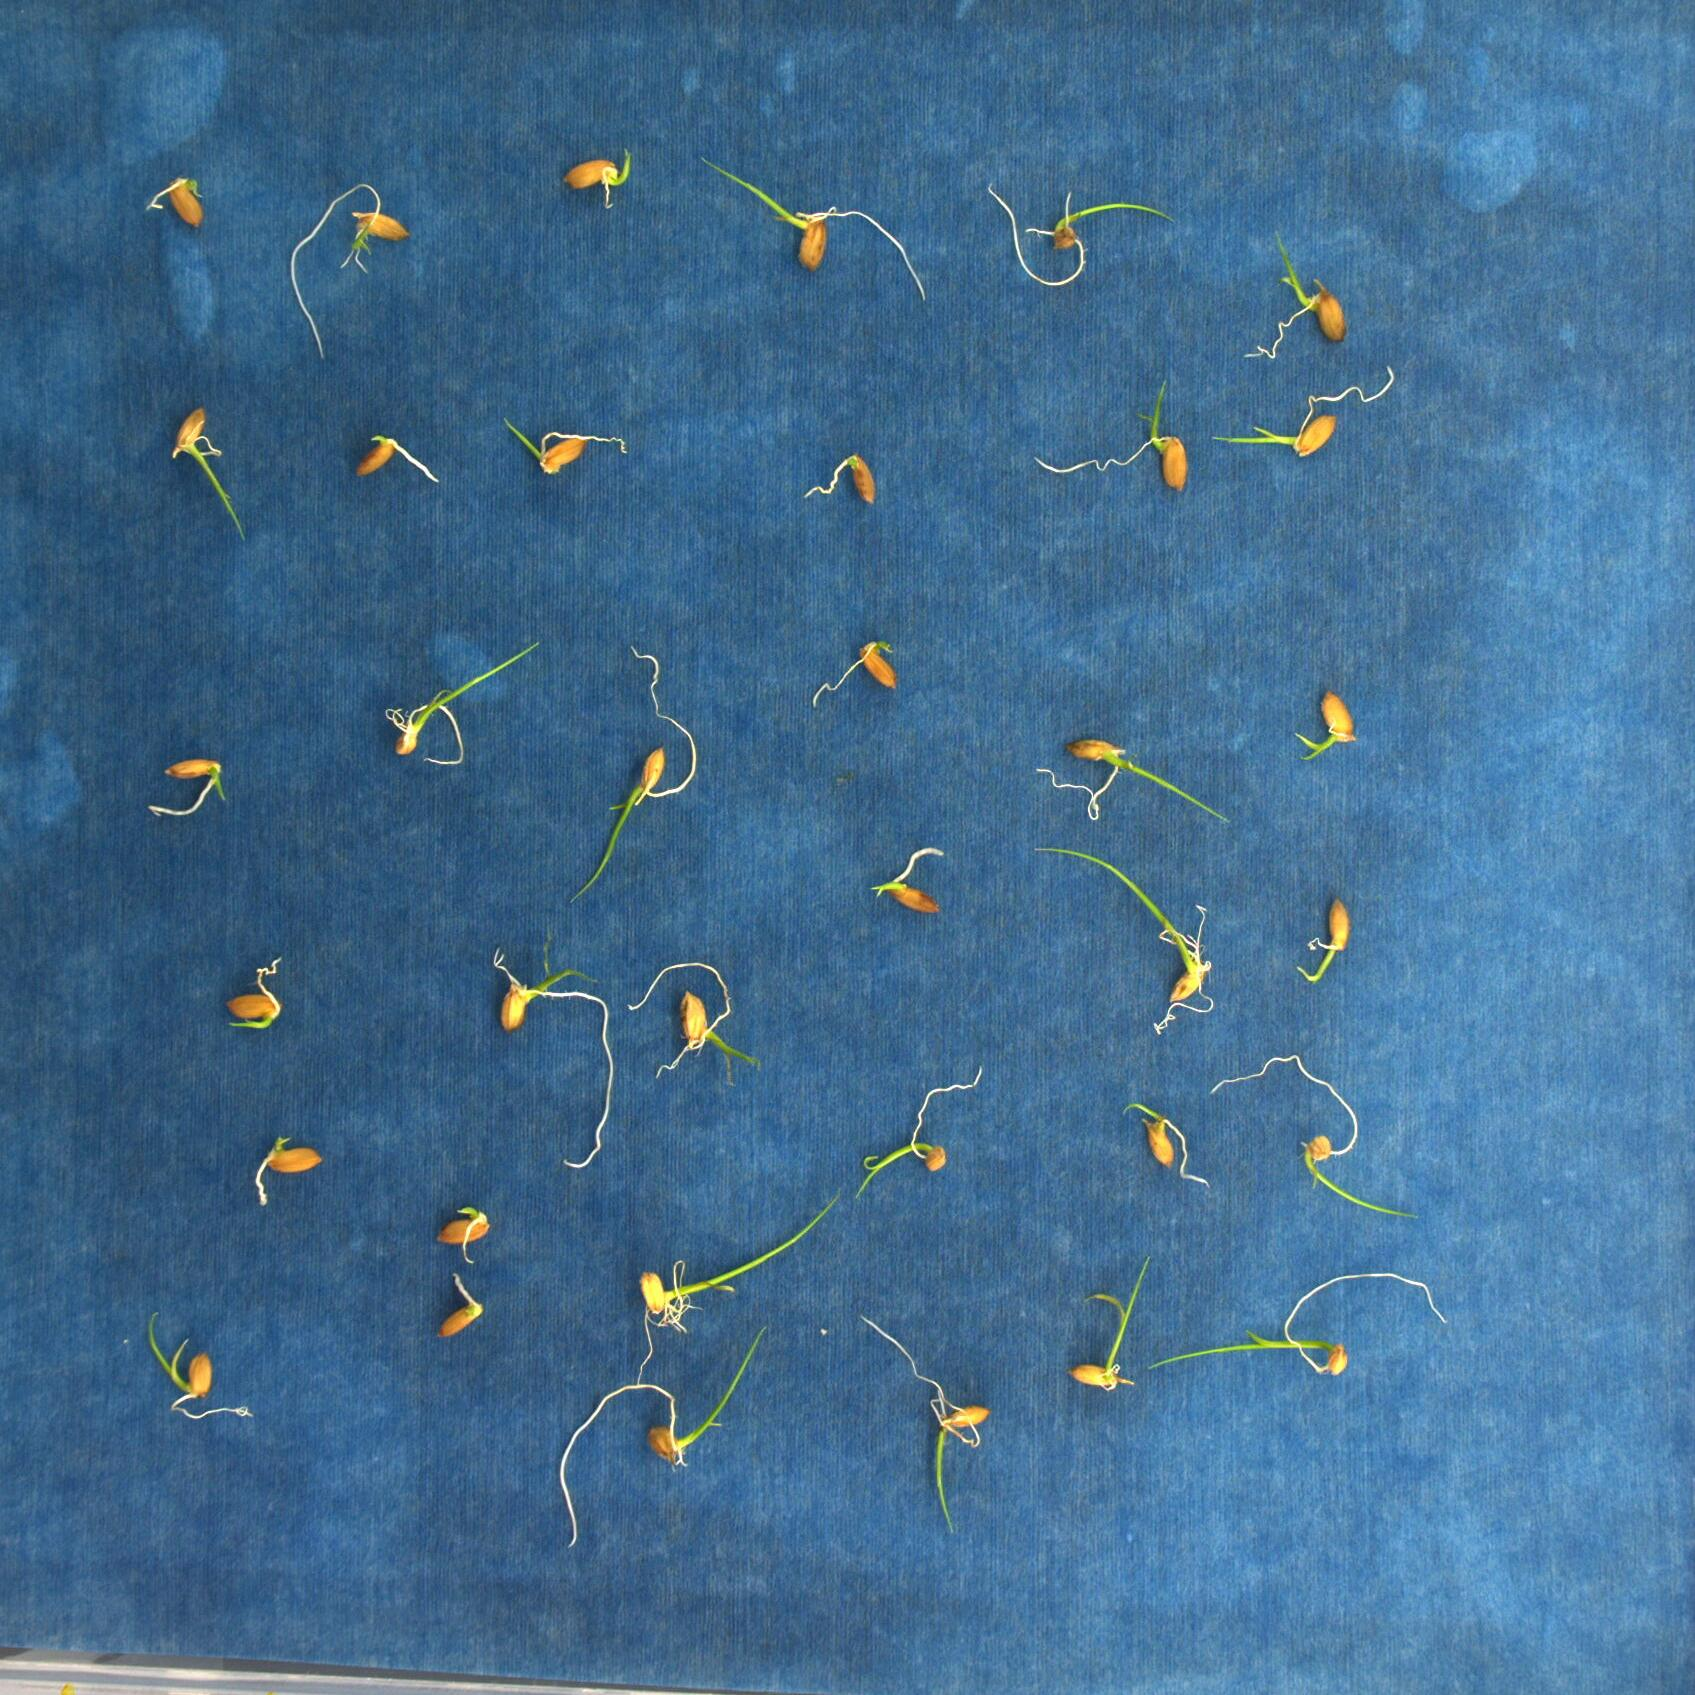not sprout: (813, 640, 899, 706), (253, 1136, 321, 1209), (355, 435, 439, 486), (802, 450, 879, 506), (436, 1274, 484, 1341), (438, 1206, 490, 1265), (147, 175, 205, 228)
sprout: (559, 1322, 768, 1549), (636, 1189, 841, 1381), (1211, 1054, 1422, 1218), (1034, 846, 1215, 1034), (568, 646, 698, 903), (702, 157, 930, 303), (1147, 1273, 1447, 1375), (490, 920, 613, 1170), (858, 1313, 993, 1535), (290, 179, 411, 362), (986, 182, 1175, 289), (383, 641, 542, 765), (1034, 379, 1189, 494), (1034, 737, 1231, 827), (1209, 366, 1395, 459), (854, 1066, 983, 1198), (626, 958, 761, 1080), (1243, 227, 1346, 362), (149, 1309, 255, 1420), (1066, 1256, 1152, 1392), (171, 407, 244, 542), (501, 414, 629, 477), (1122, 1102, 1209, 1191), (869, 847, 945, 914), (224, 953, 286, 1031), (1298, 896, 1350, 986), (1295, 689, 1358, 762), (149, 759, 224, 816), (563, 147, 632, 210)
